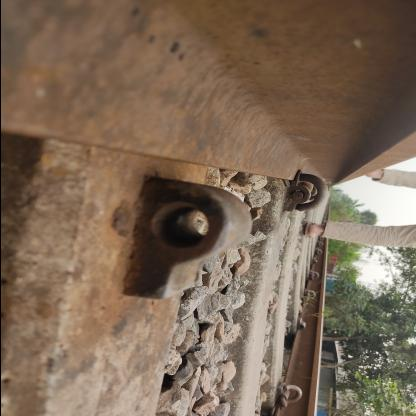Defective 1: (84, 152, 278, 330)
